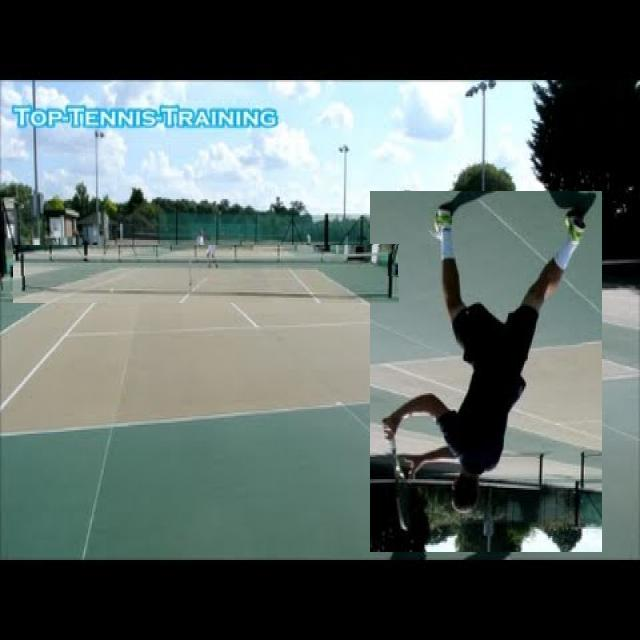court: (0, 276, 582, 474)
net: (13, 246, 400, 304)
player: (370, 192, 602, 554)
